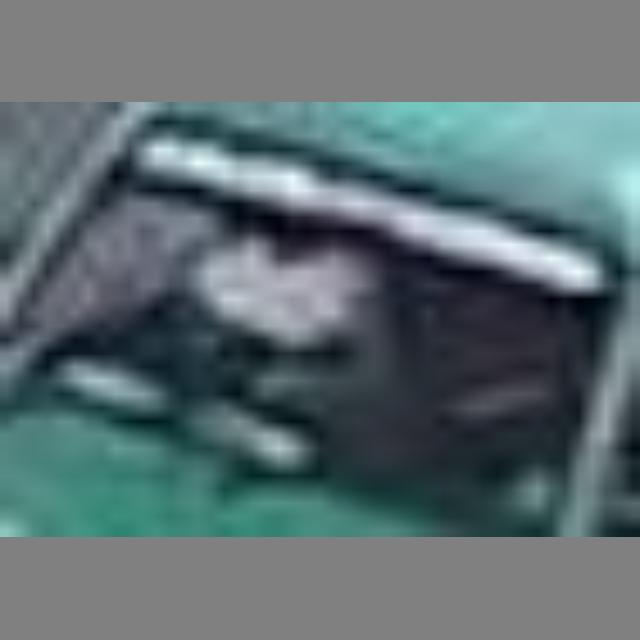tidak-pakai: (177, 197, 368, 402)
